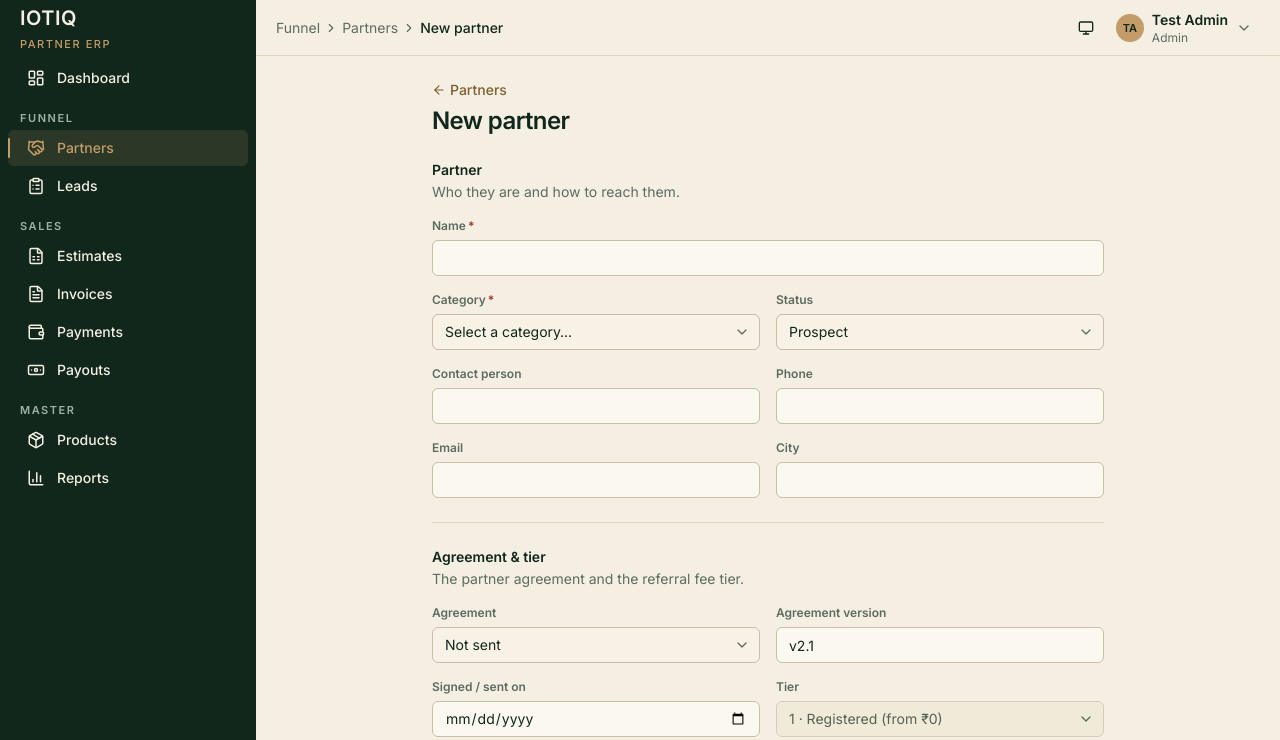
it: partner form › creates a partner with defaults and without tier fields when the user can't approve
The width and height of the screenshot is (1280, 740).
In the field labelled "Name": (768, 258) x1=432 y1=240 x2=1104 y2=276, type "Studio Nila"
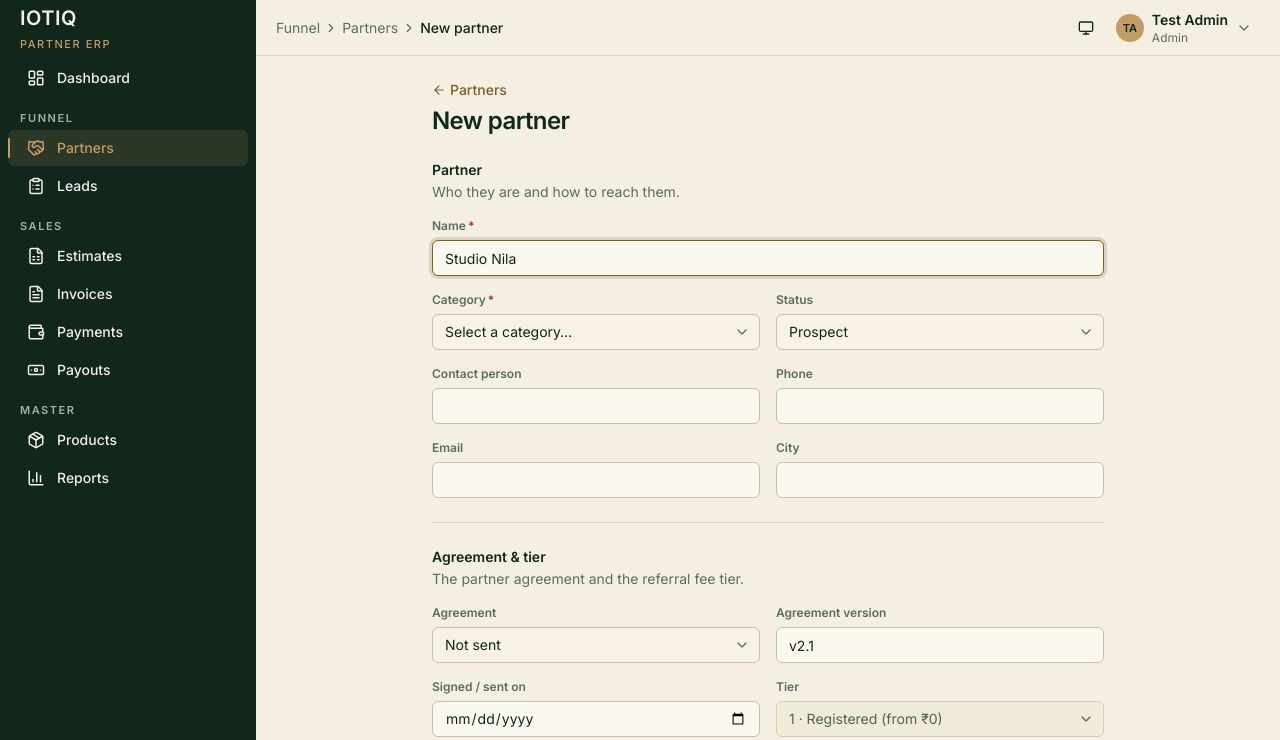
Select "Interior designer" in the dropdown labelled "Category": (596, 332) x1=432 y1=314 x2=760 y2=350
(page scrolled)
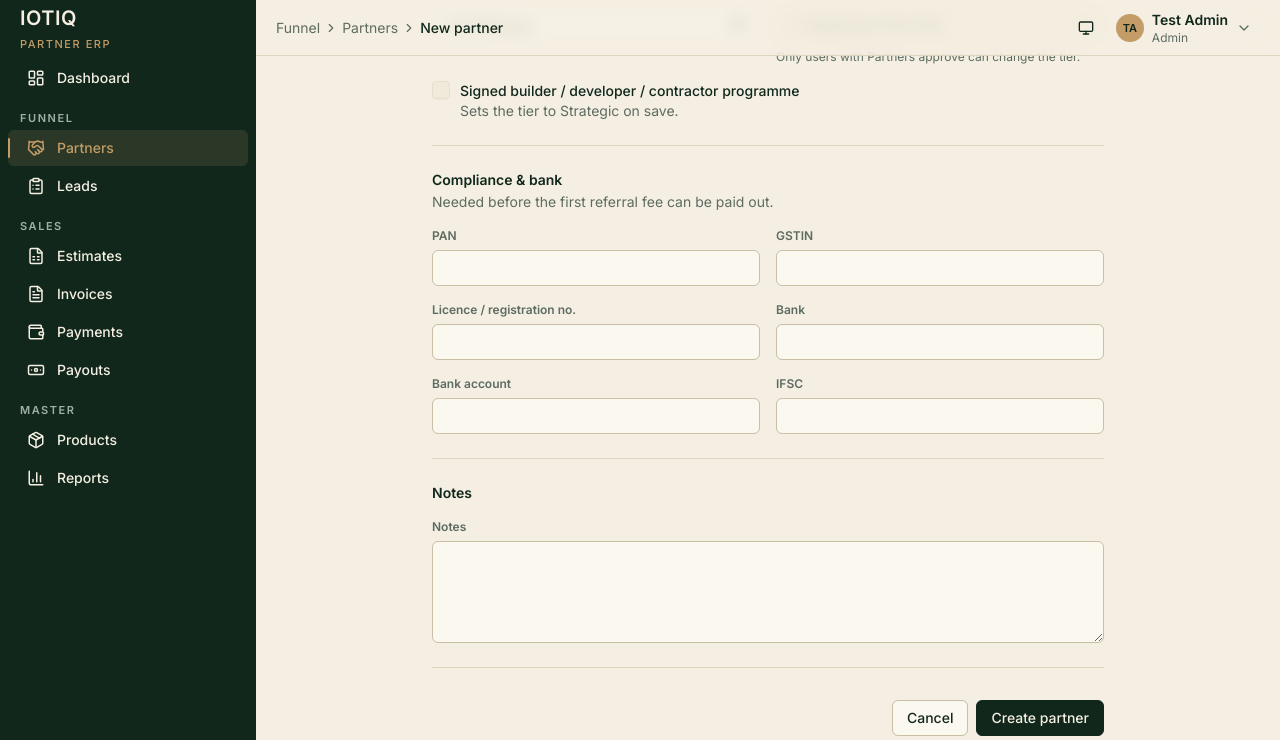
Expected: the dropdown labelled "Tier" is disabled, x1=776 y1=7 x2=1104 y2=43
In the field labelled "Bank account": (596, 416) x1=432 y1=398 x2=760 y2=434, type "1234 5678 9012"
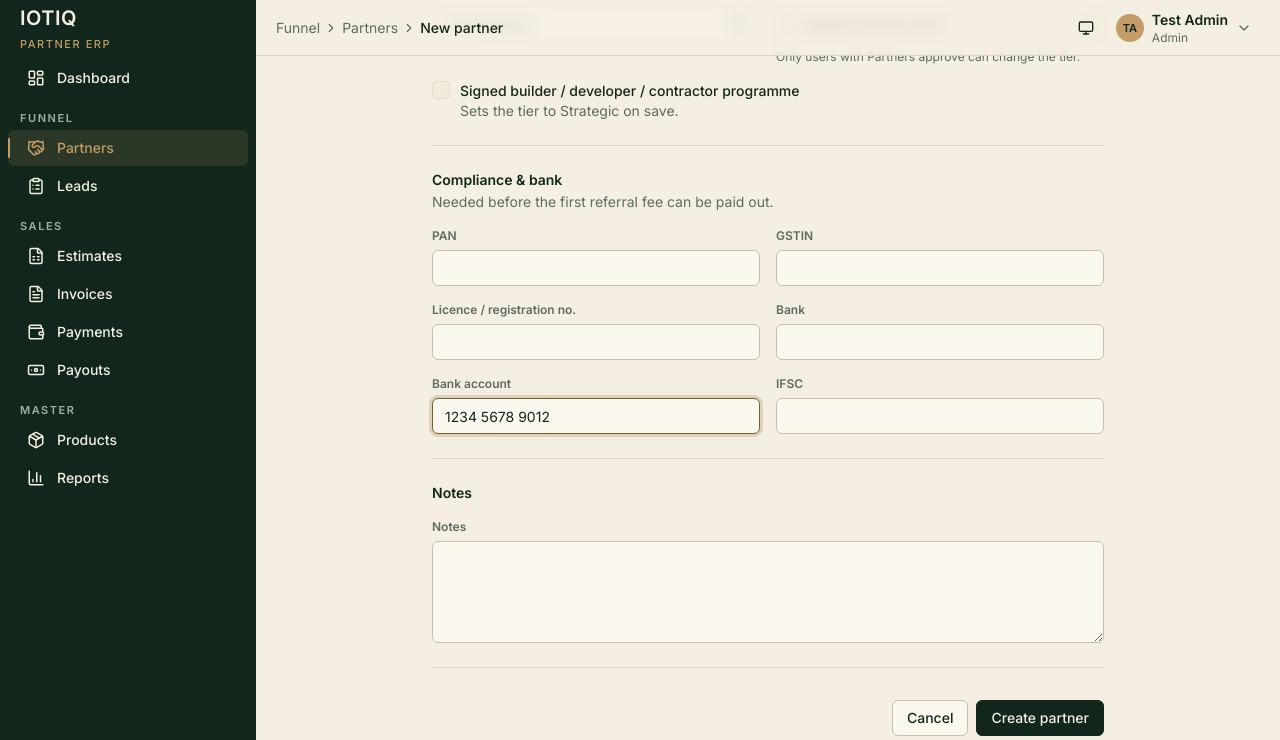
Click the button "Create partner": (1040, 718) x1=976 y1=700 x2=1104 y2=736
(page scrolled)
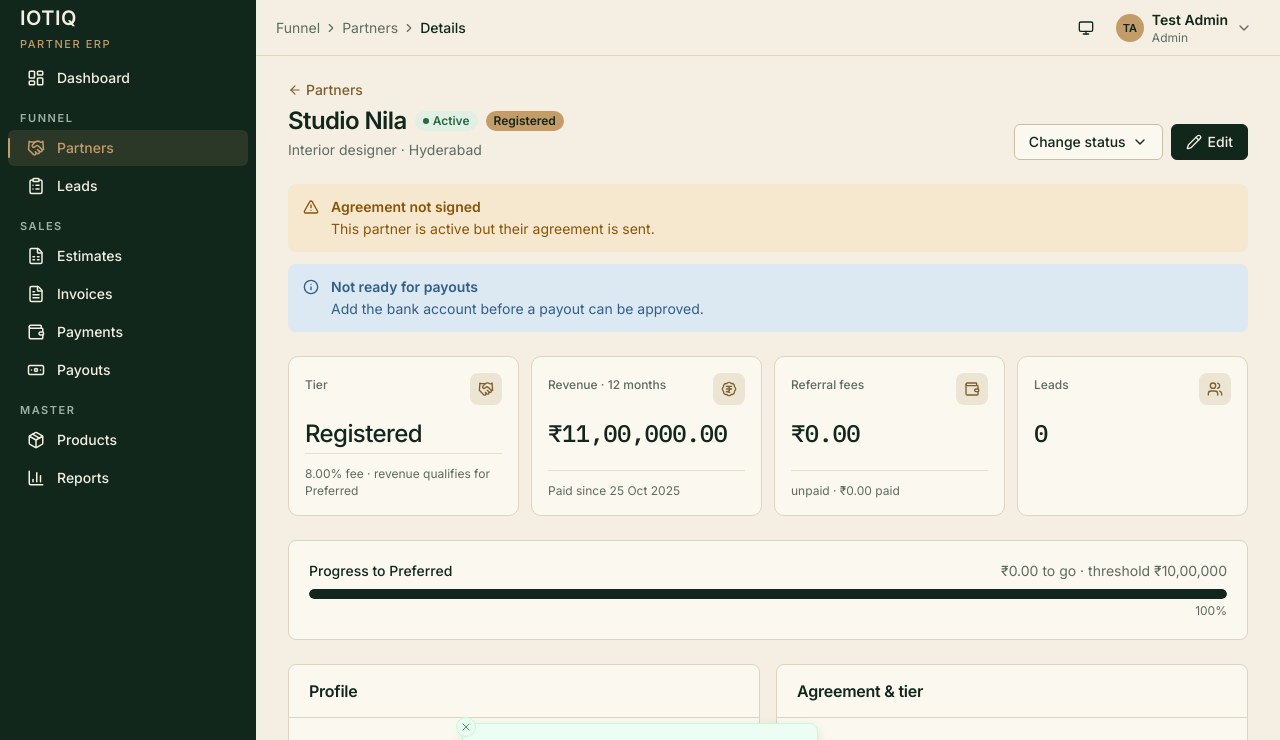
Expected: the heading "Studio Nila" is shown, x1=288 y1=106 x2=407 y2=136
